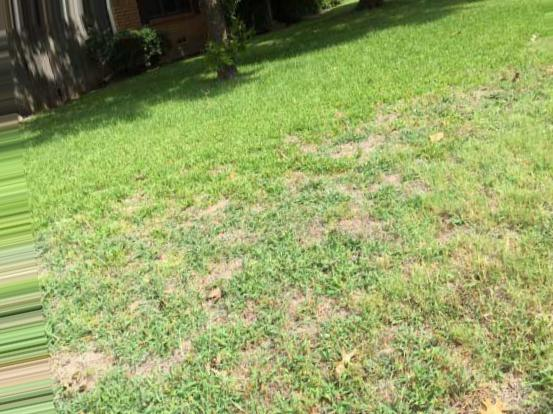patch: (118, 252, 291, 328), (143, 200, 282, 252), (57, 341, 188, 381), (437, 347, 514, 401), (424, 230, 485, 275), (295, 173, 364, 212), (291, 297, 349, 330), (337, 135, 383, 175), (332, 206, 379, 242)
